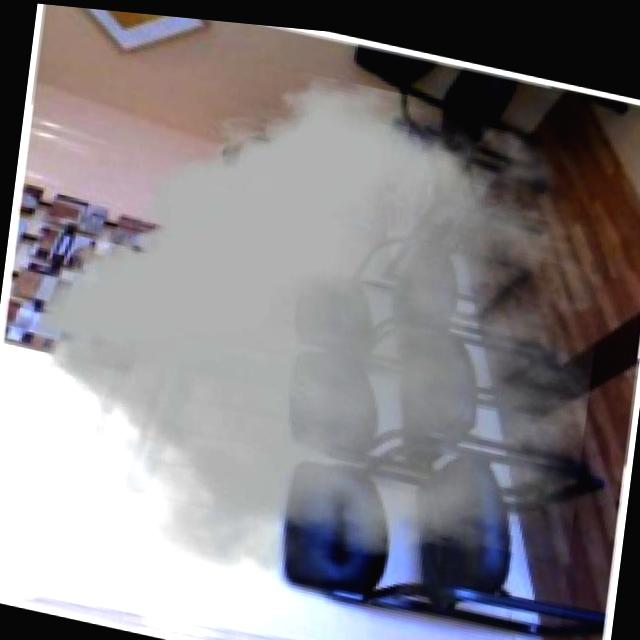no_helmet: (5, 10, 621, 640)
